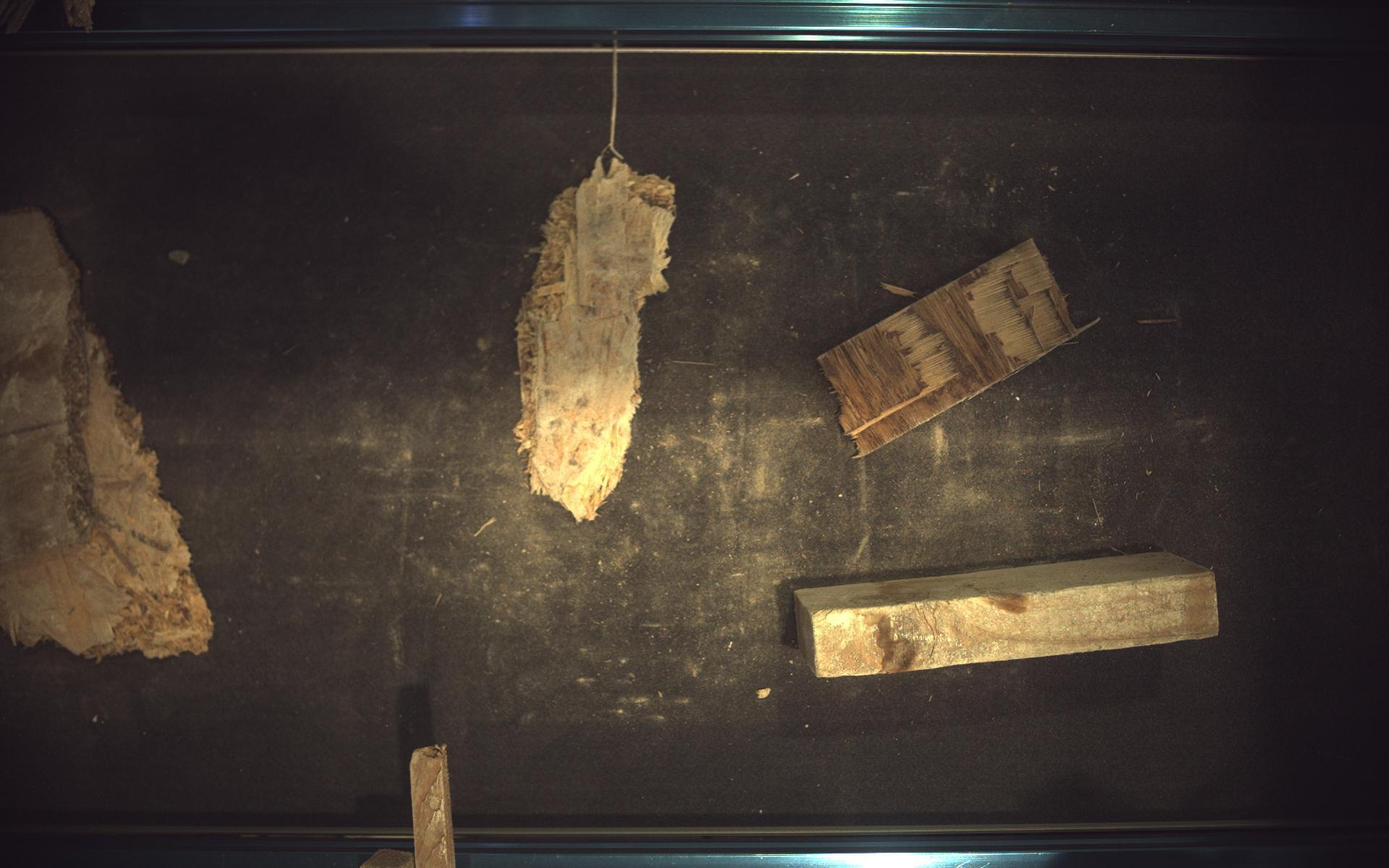wood: (514, 149, 676, 521), (820, 239, 1092, 456), (797, 553, 1222, 678)
